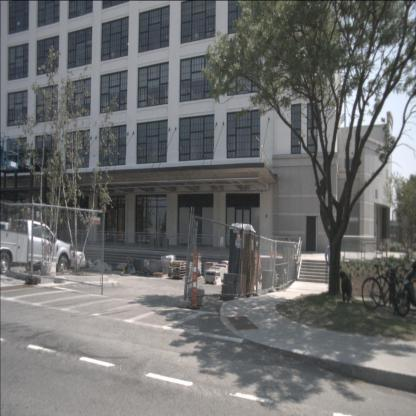human-pedestrian-adult: (325, 238, 336, 289)
movable_object-trafficcone: (187, 252, 200, 310), (270, 242, 273, 258), (274, 242, 277, 257)
vehicle-bicycle: (362, 260, 400, 310), (371, 262, 409, 308)
vehicle-car: (41, 242, 86, 272)
vehicle-motorcycle: (396, 260, 416, 316)
vehicle-truck: (0, 218, 71, 275)
